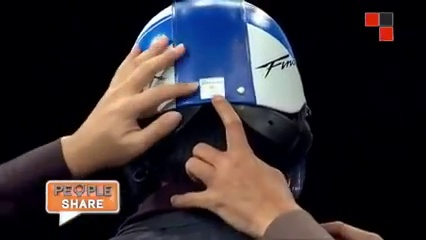helmet: (114, 1, 313, 122)
